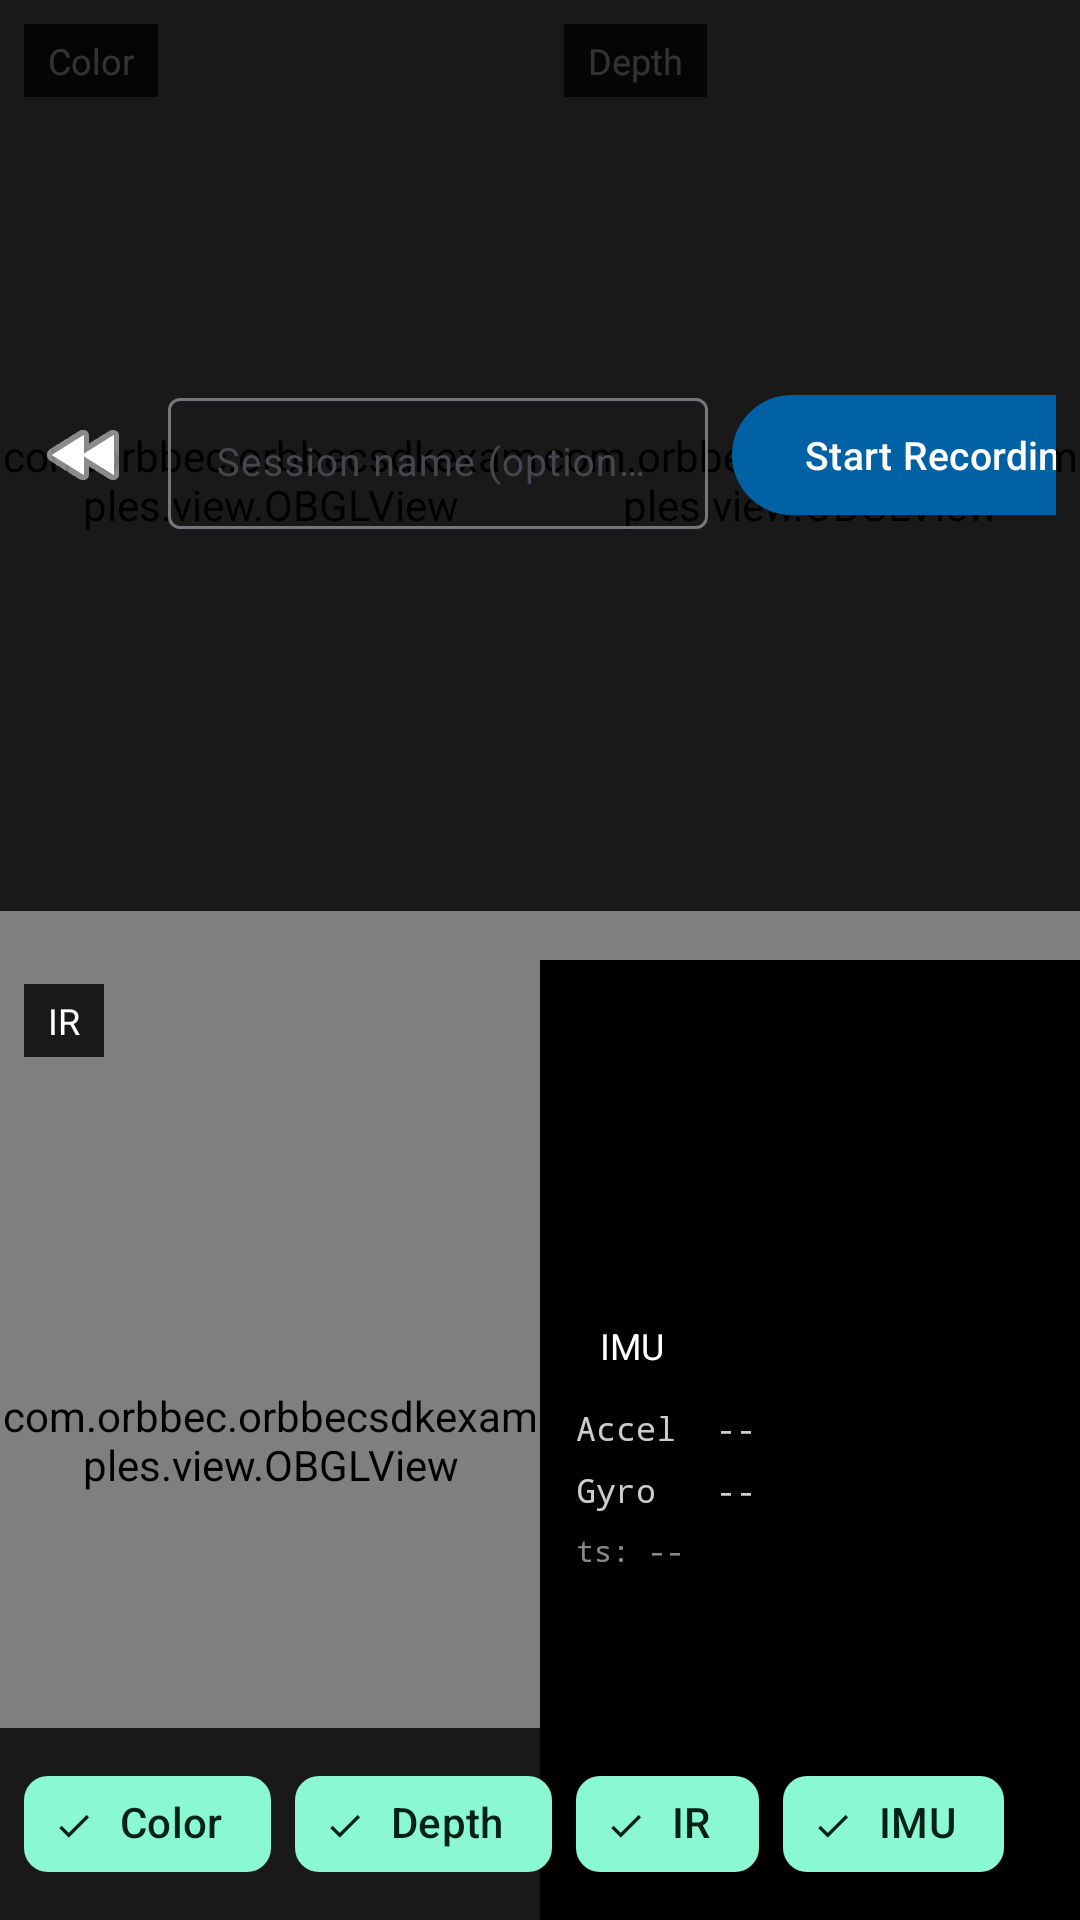

Where to tap for icons on this 1080px×1920px app screen, as (x,y):
Go back: (80,455)
